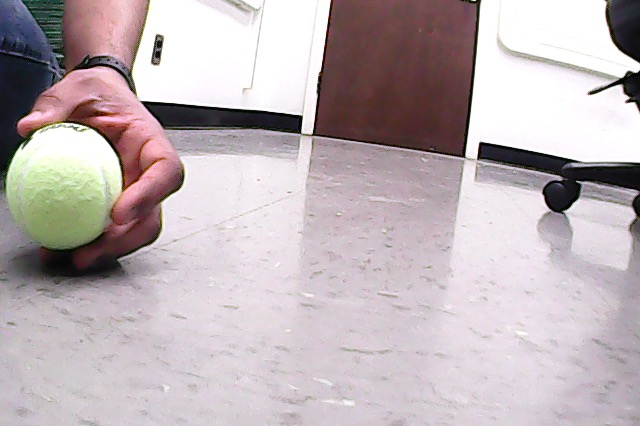ball: (7, 124, 124, 250)
